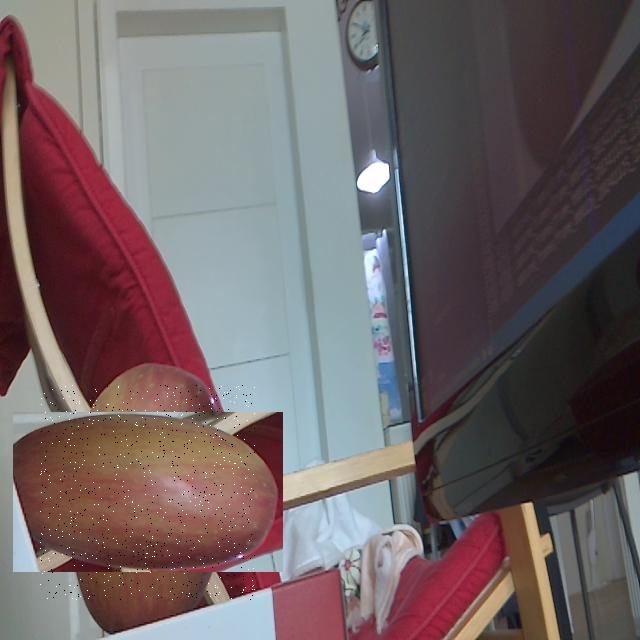apple: (40, 385, 255, 600)
